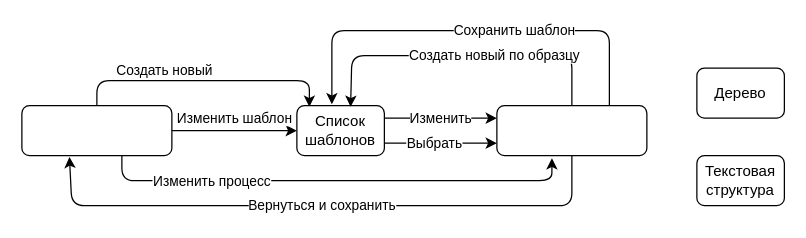
This 806x238 diagram has some shape labels left out. Each missing label, with the centre of its shape:
Конструктор: the point at 571,130
Список процессов: the point at 96,130
